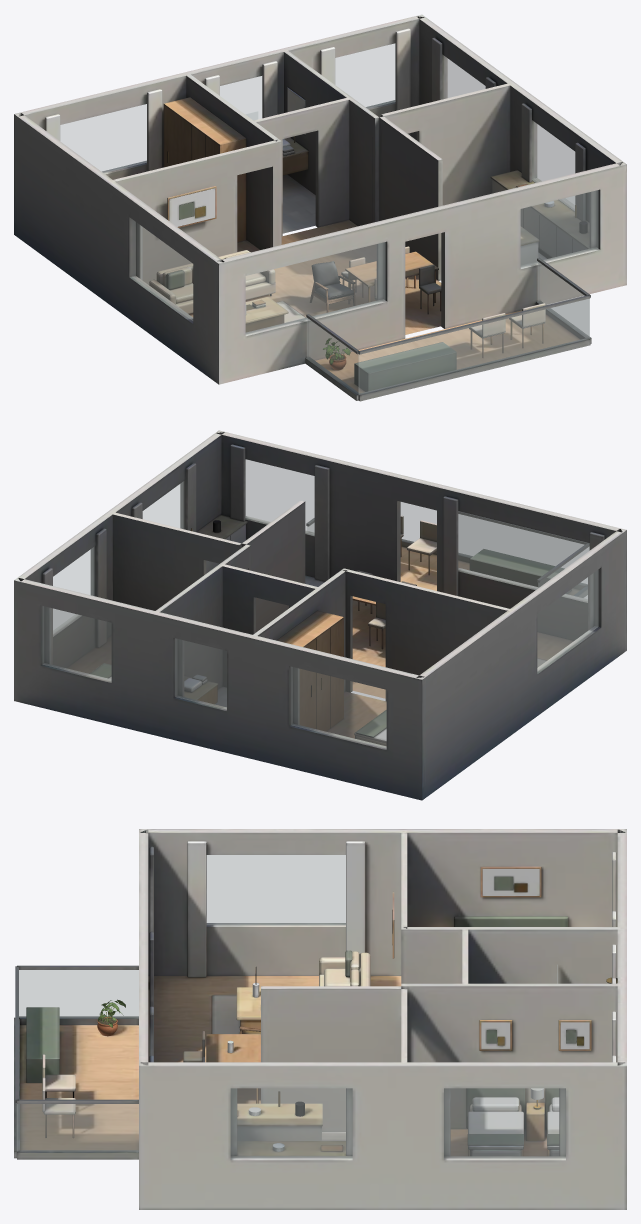
File: casa.glb
3 renders of one model, top to bottom at view 1: azimuth 30°, elevation 25°; view 2: azimuth 150°, elevation 25°; view 3: azimuth 270°, elevation 25°, orthographic. The views are drawn at different scales.
Parts seen in each view (by area): view 1: horneado, Cube.046; view 2: horneado, Cube.046; view 3: horneado, Cube.046, potted_plant_02_pot.
Part boxes in pixels (x1=…): horneado: x1=14, y1=14, x2=626, y2=401; Cube.046: x1=60, y1=43, x2=598, y2=394; horneado: x1=14, y1=430, x2=626, y2=800; Cube.046: x1=42, y1=459, x2=598, y2=747; horneado: x1=14, y1=829, x2=626, y2=1209; Cube.046: x1=16, y1=855, x2=565, y2=1158; potted_plant_02_pot: x1=97, y1=999, x2=125, y2=1036.
Size of the model in its own units: 9.2 by 2.6 by 10.05.
4 materials, 3 textured.
